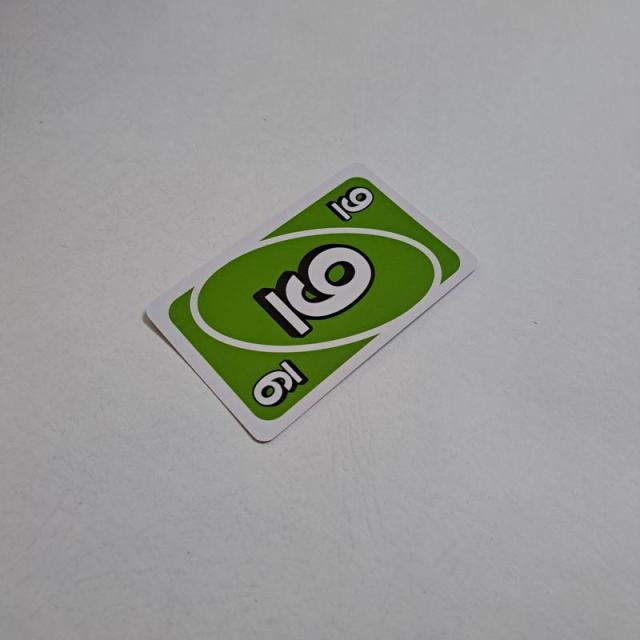Green_Card: (164, 171, 465, 423)
Number_9: (322, 182, 378, 224)
